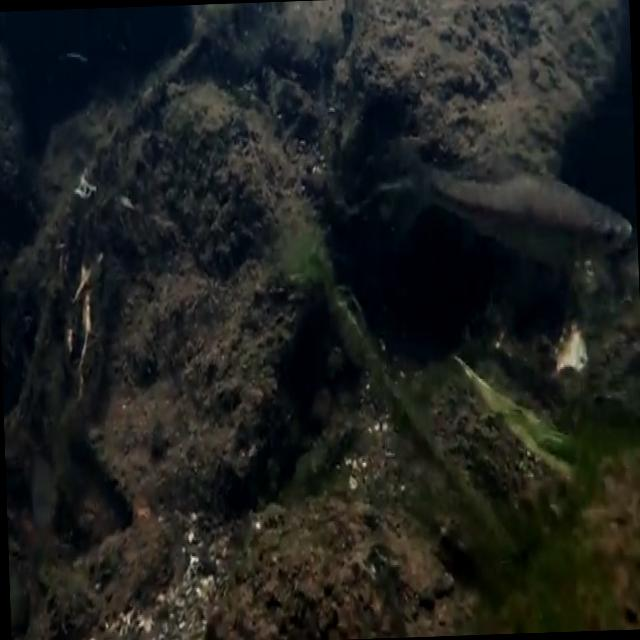Cakil Baligi: (383, 114, 639, 287)
